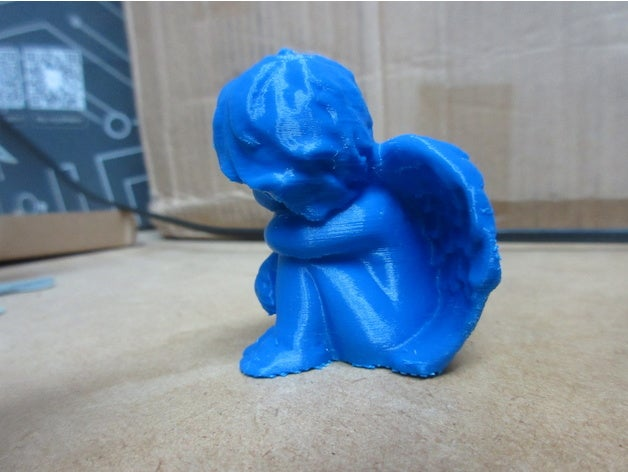Good: (192, 40, 513, 403)
